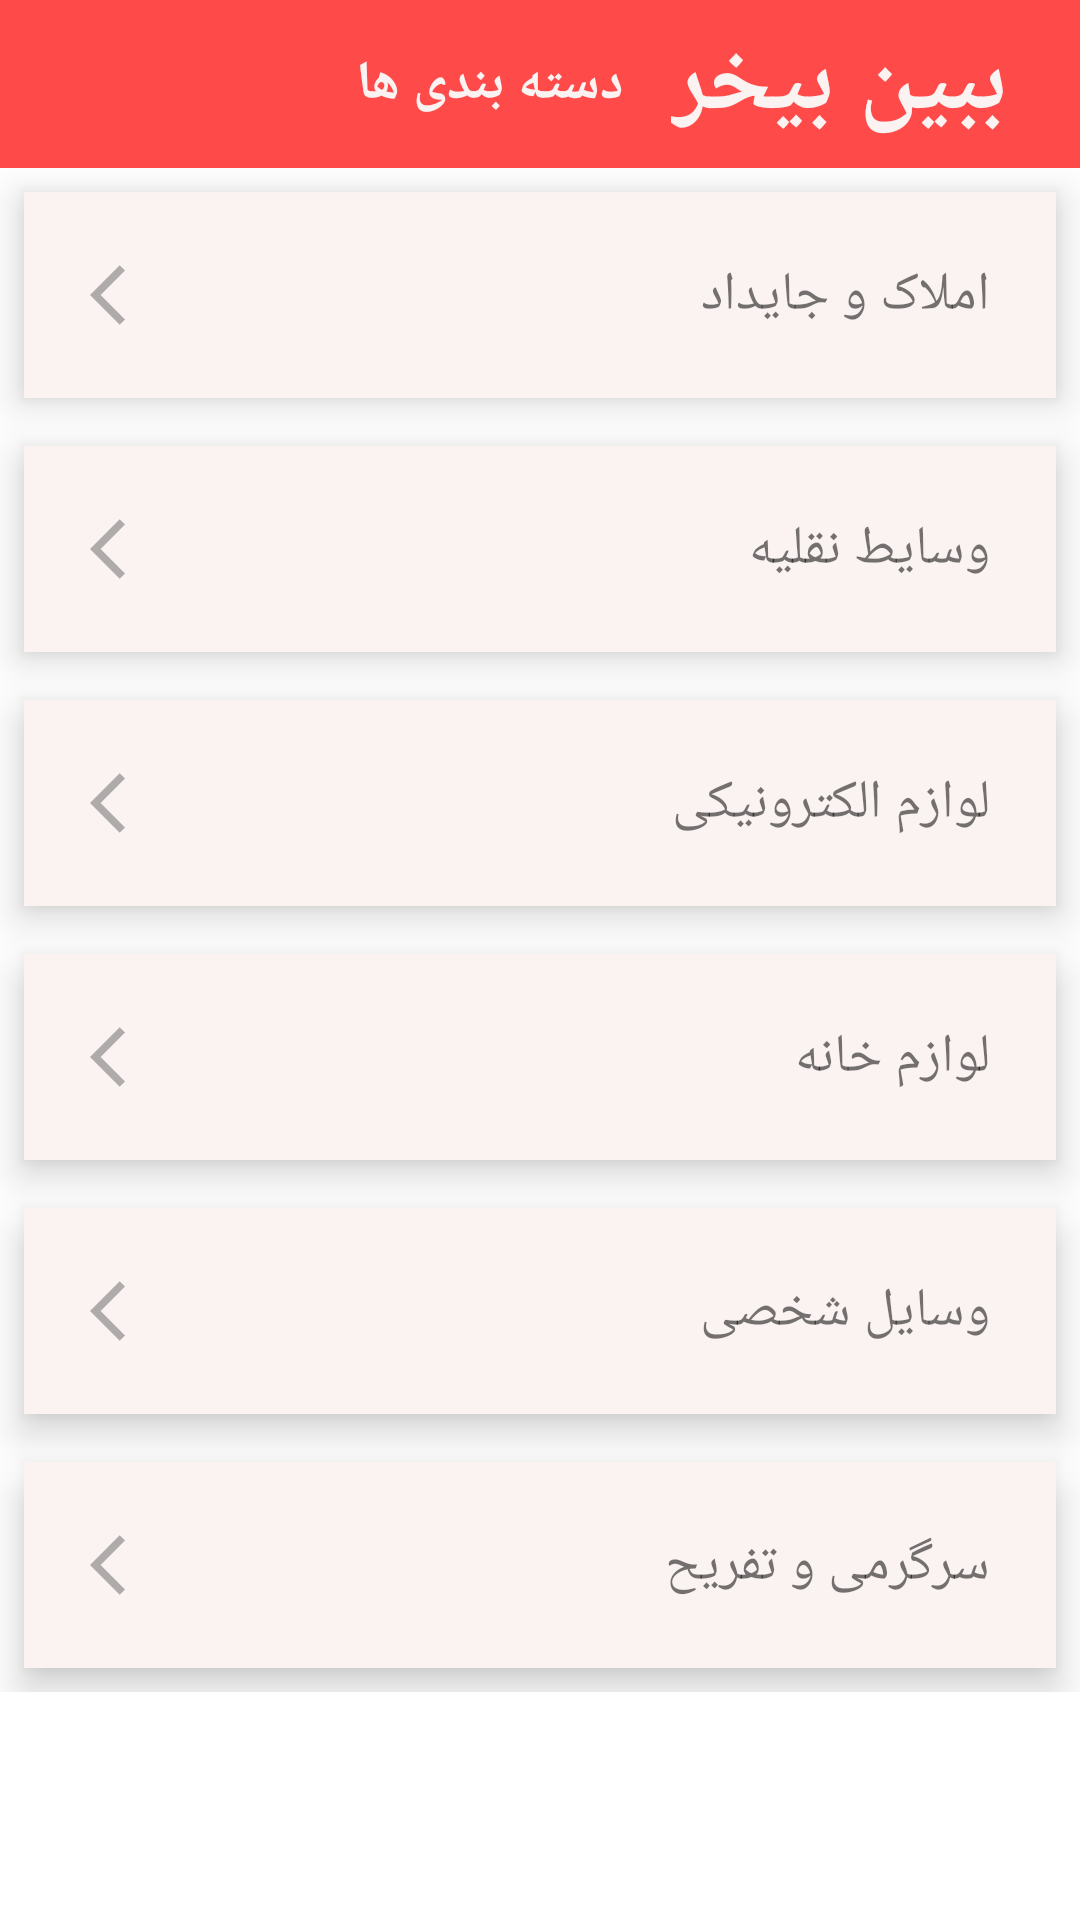

Icons on this 1080x1920 Android screen, each with the point to tap as [x,y]:
arrow: [107,295], [107,549], [107,803], [107,1057], [107,1311], [107,1565]
